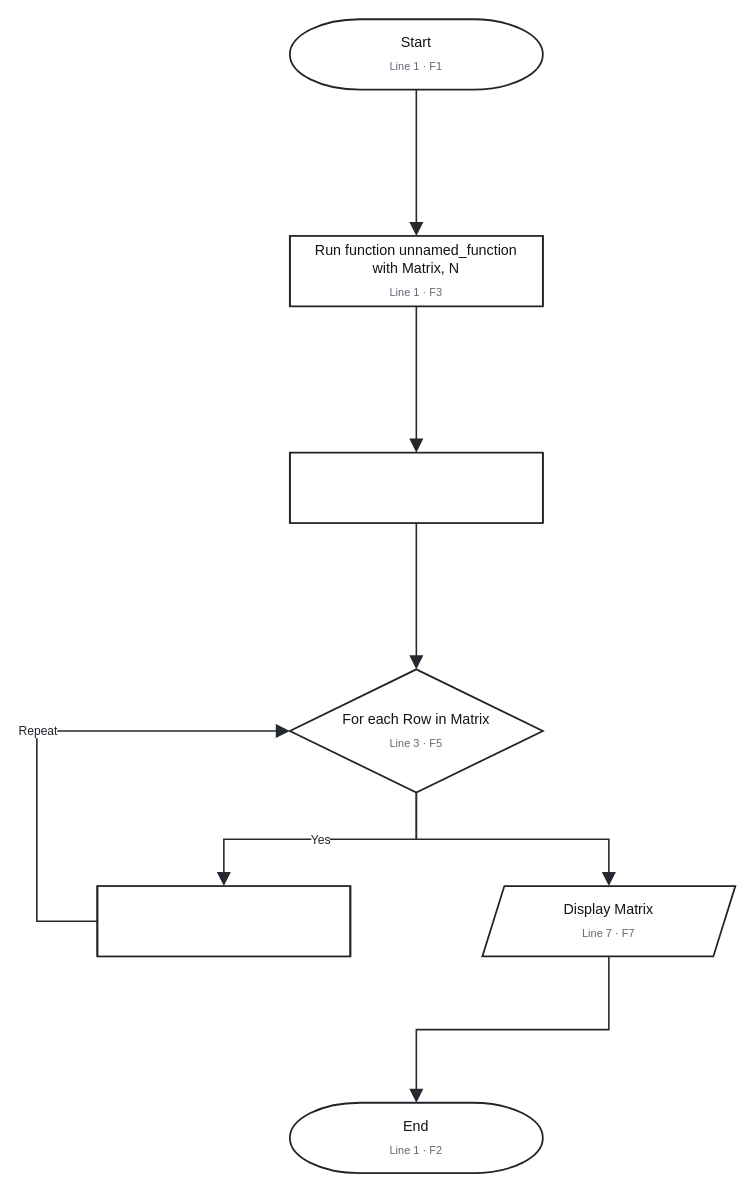
Some shapes in this 756 by 1194 pixel diagram are drawn without their labels. The shapes that lost their labels are listed below. From the top down, each one's centre as x and y in pixels, then its label:
point 415,487: Call transpose_in_place with Matrix Line 2 · F4
point 223,921: Call reverse_list with Row Line 4 · F6
